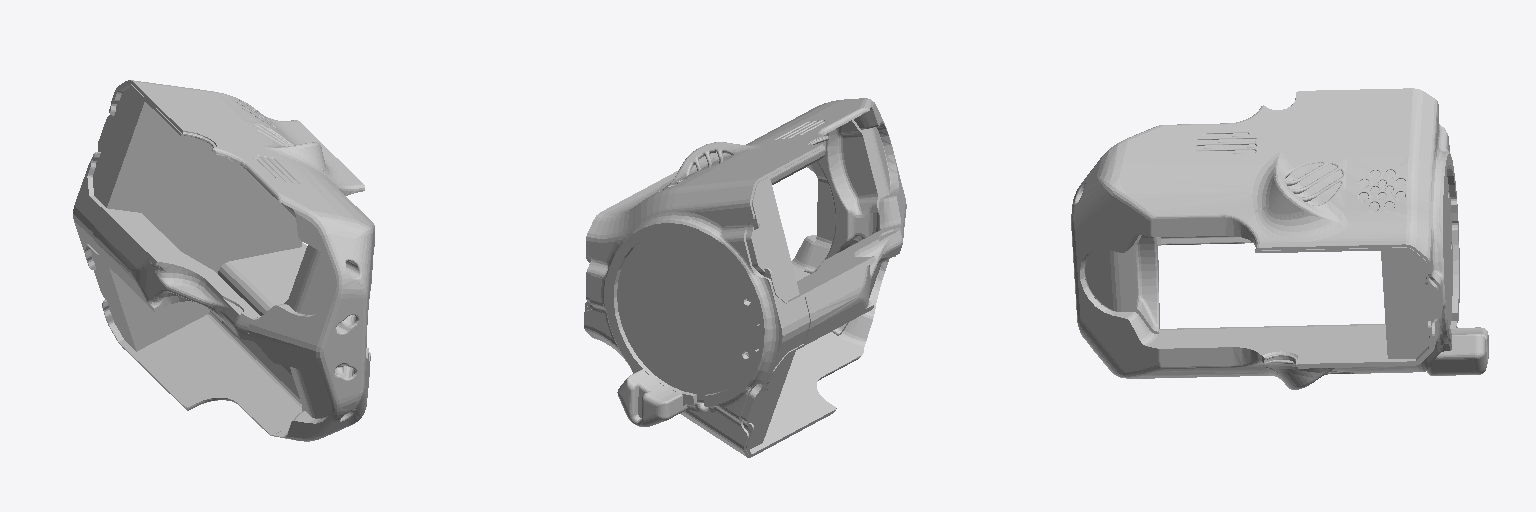
File: converted_r3_config1_base_808080ff.obj
3 views of the same model, side by side, from view 1: azimuth 30°, elevation 25°; view 2: azimuth 150°, elevation 25°; view 3: azimuth 270°, elevation 25° (orthographic).
Size of the model in its own units: 0.122 by 0.1512 by 0.2047.